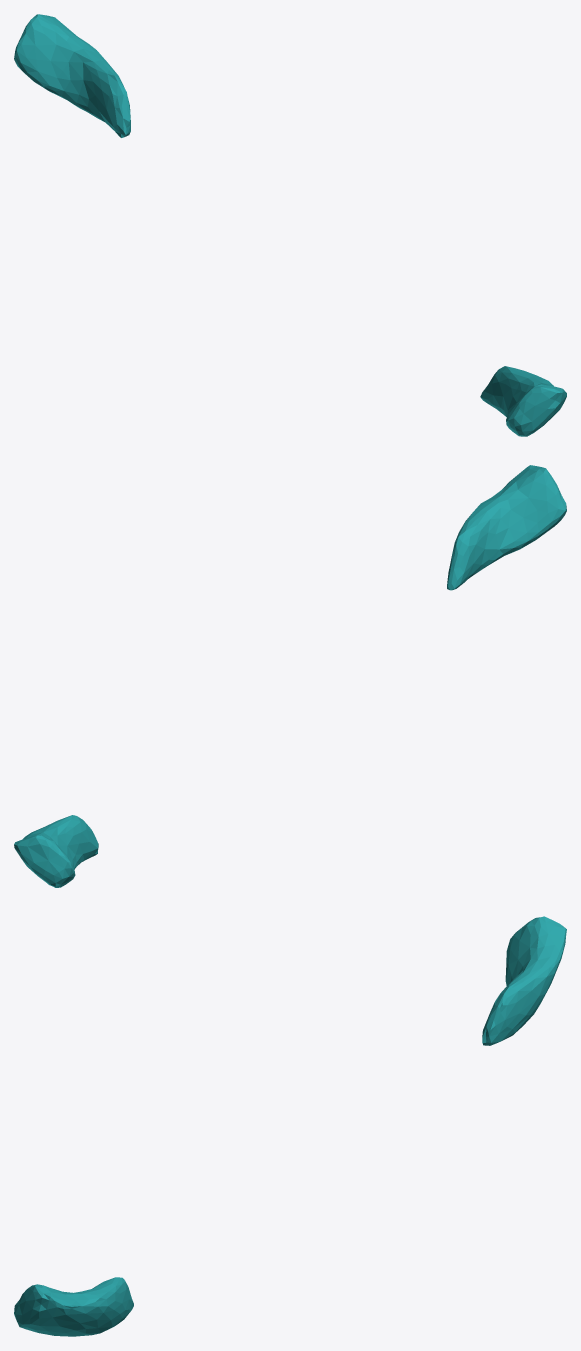
3 renders of one model, top to bottom at view 1: azimuth 30°, elevation 25°; view 2: azimuth 150°, elevation 25°; view 3: azimuth 330°, elevation 25°, orthographic.
Visible parts, largest first — view 1: 902.obj; view 2: 902.obj; view 3: 902.obj.
Part boxes in pixels (box(x1,y1,x2,y2)): 902.obj: box(14, 14, 566, 436); 902.obj: box(14, 465, 566, 887); 902.obj: box(14, 916, 566, 1336).
Size of the model in its own units: 545 by 592 by 7416.
